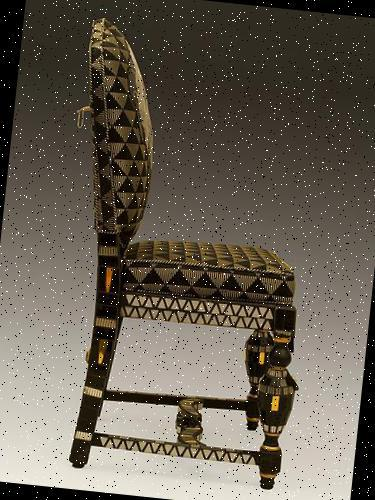Silla: (40, 19, 332, 496)
